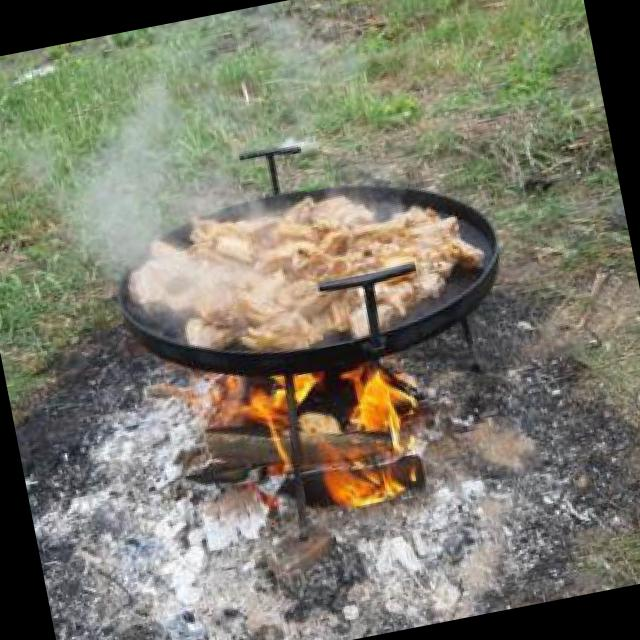Fire: (232, 347, 432, 531)
Smoke: (0, 71, 275, 356)
